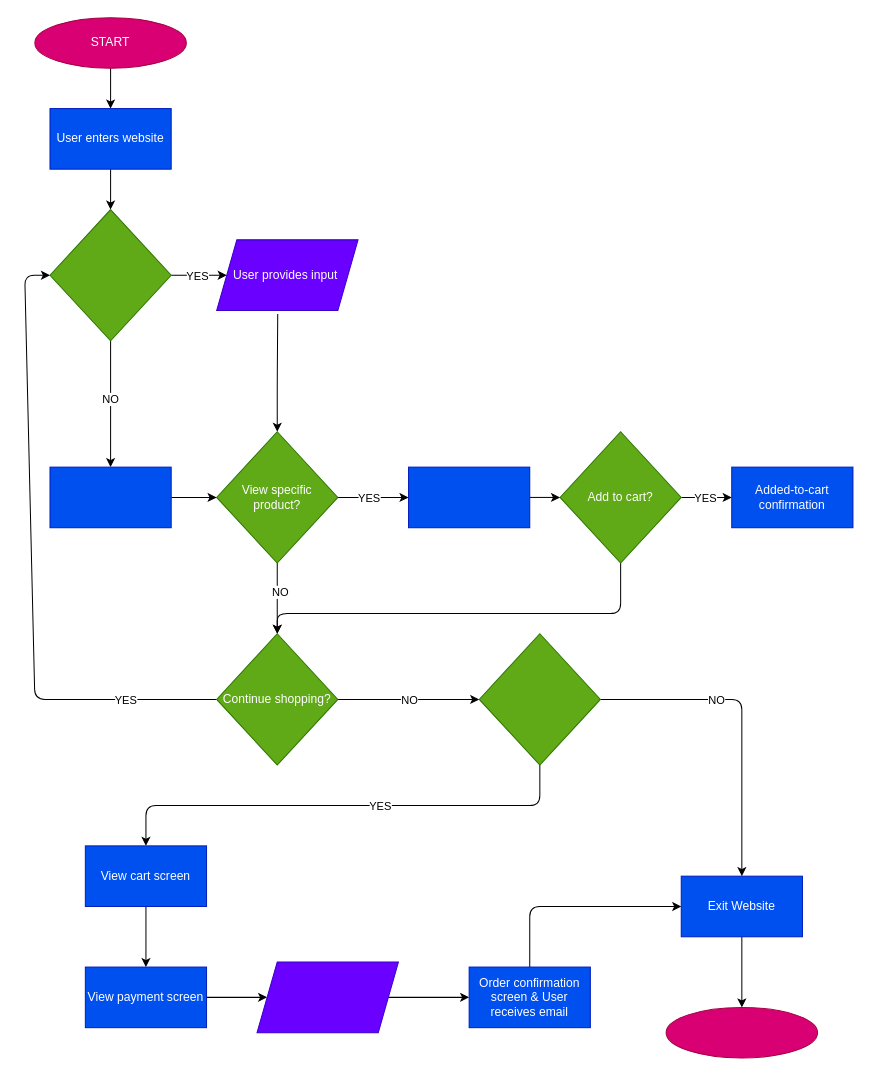
Some shapes in this 871 by 1076 pixel diagram are drawn without their labels. Each missing label, with the box of its shape:
Checkout?: (478, 633, 600, 765)
END: (665, 1006, 818, 1058)
Opens product webpage: (408, 466, 530, 528)
Search for product?: (49, 209, 171, 341)
User looks over products: (49, 466, 171, 528)
User provides payment information: (256, 961, 398, 1033)
